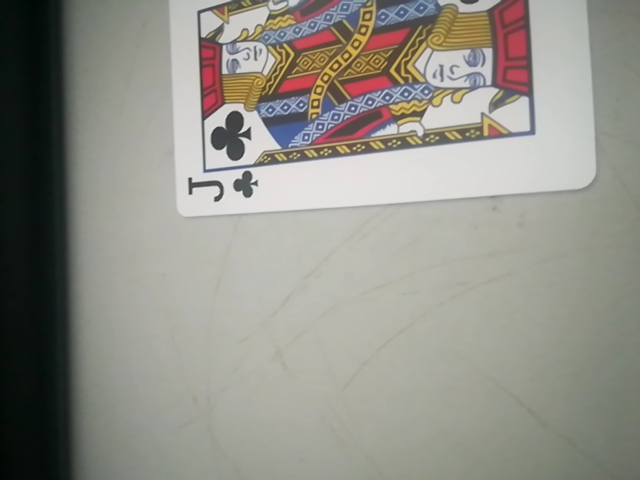mh j: (161, 0, 594, 225)
